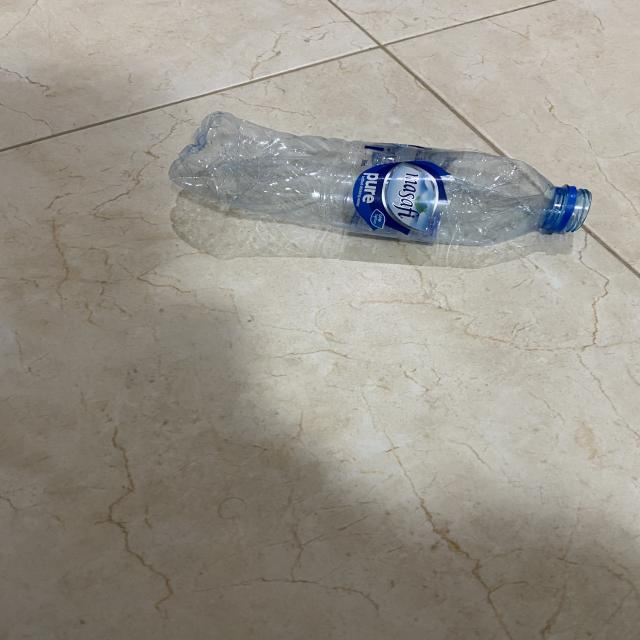plastic bottle: (166, 105, 593, 262)
